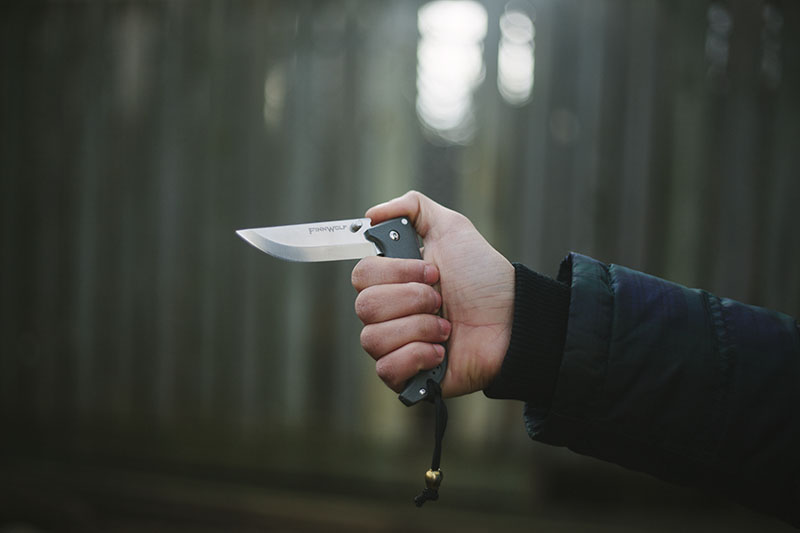knife: (219, 195, 429, 302)
